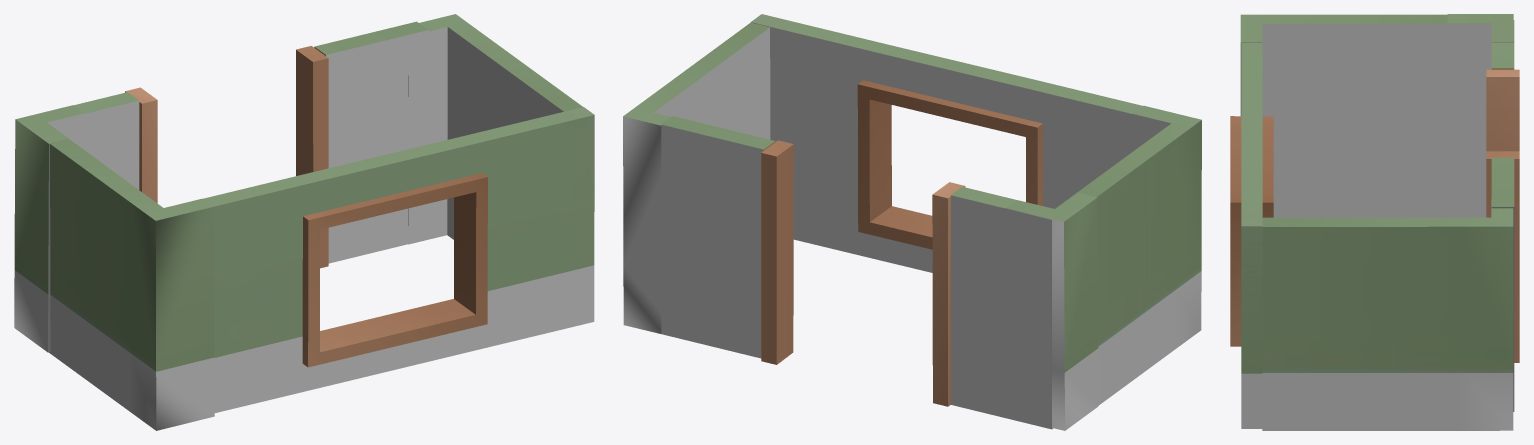
The model's file is BAÑO.fbx.
3 views of the same model, side by side, from view 1: azimuth 30°, elevation 25°; view 2: azimuth 150°, elevation 25°; view 3: azimuth 270°, elevation 25° (orthographic). The views are drawn at different scales.
Visible parts, largest first — view 1: paret_ventana3, paret_estrecha3, paret_puerta24, paret_estrecha4, paret_esquina_54; view 2: paret_puerta24, paret_ventana3, paret_estrecha3, paret_estrecha4, paret_esquina_54; view 3: paret_estrecha4, paret_estrecha3, paret_ventana3, paret_puerta24, paret_esquina_54.
Part boxes in pixels (x1=…): paret_ventana3: x1=203, y1=107, x2=594, y2=412; paret_estrecha3: x1=46, y1=122, x2=214, y2=430; paret_puerta24: x1=47, y1=21, x2=428, y2=268; paret_estrecha4: x1=408, y1=14, x2=582, y2=244; paret_esquina_54: x1=14, y1=105, x2=84, y2=352; paret_puerta24: x1=661, y1=116, x2=1052, y2=429; paret_ventana3: x1=750, y1=14, x2=1142, y2=272; paret_estrecha3: x1=1055, y1=105, x2=1201, y2=405; paret_estrecha4: x1=623, y1=22, x2=770, y2=333; paret_esquina_54: x1=1005, y1=192, x2=1098, y2=430; paret_estrecha4: x1=1262, y1=199, x2=1513, y2=430; paret_estrecha3: x1=1240, y1=14, x2=1491, y2=217; paret_ventana3: x1=1230, y1=43, x2=1273, y2=428; paret_puerta24: x1=1486, y1=20, x2=1519, y2=411; paret_esquina_54: x1=1447, y1=14, x2=1514, y2=42.
Bounding box in the file's own units: 749 × 341 × 433.
